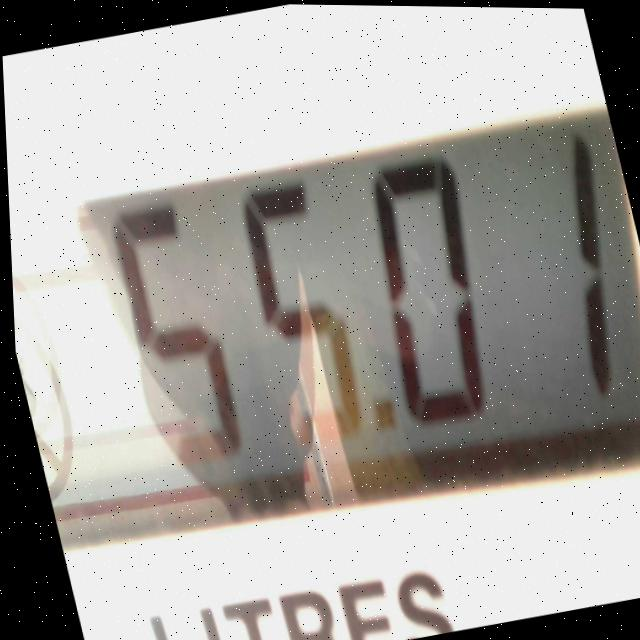.: (353, 362, 404, 462)
0: (334, 160, 511, 445)
1: (502, 115, 640, 422)
5: (86, 182, 284, 483), (218, 168, 369, 452)
